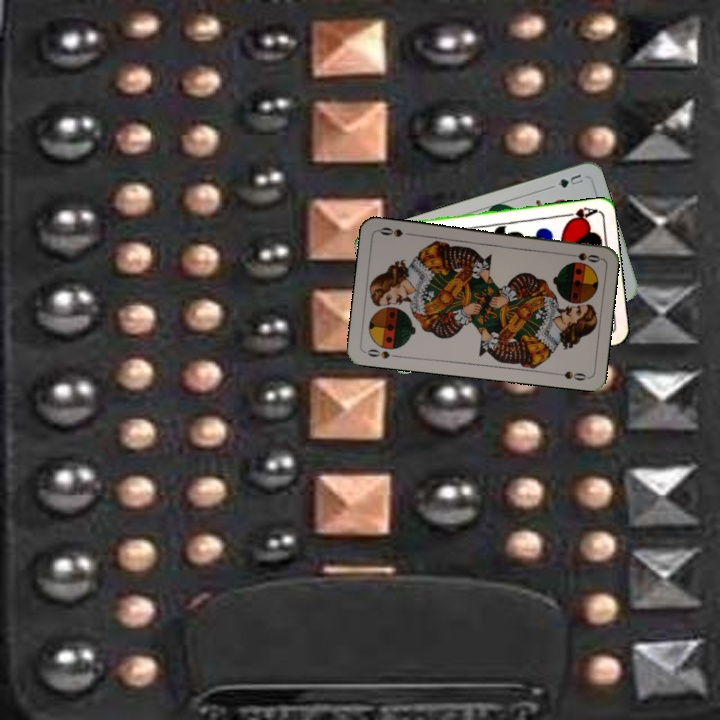GU: (554, 170, 586, 191)
HA: (558, 203, 599, 224)
SO: (562, 249, 603, 265), (363, 345, 402, 361)
